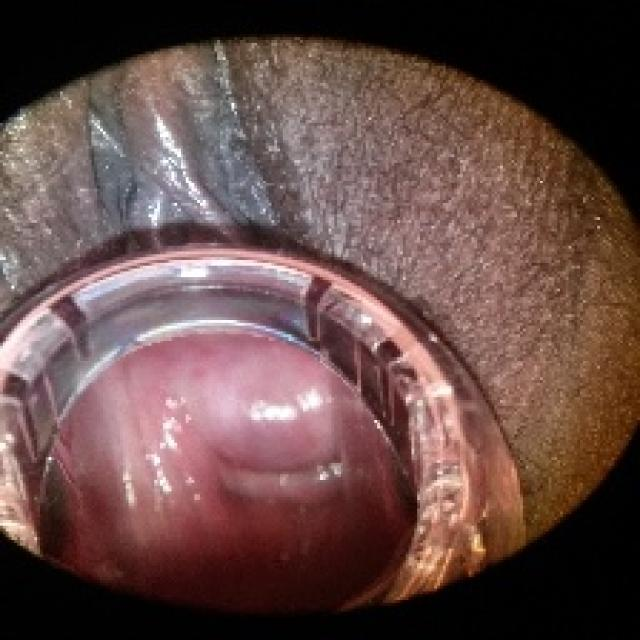type-2: (14, 51, 595, 612)
